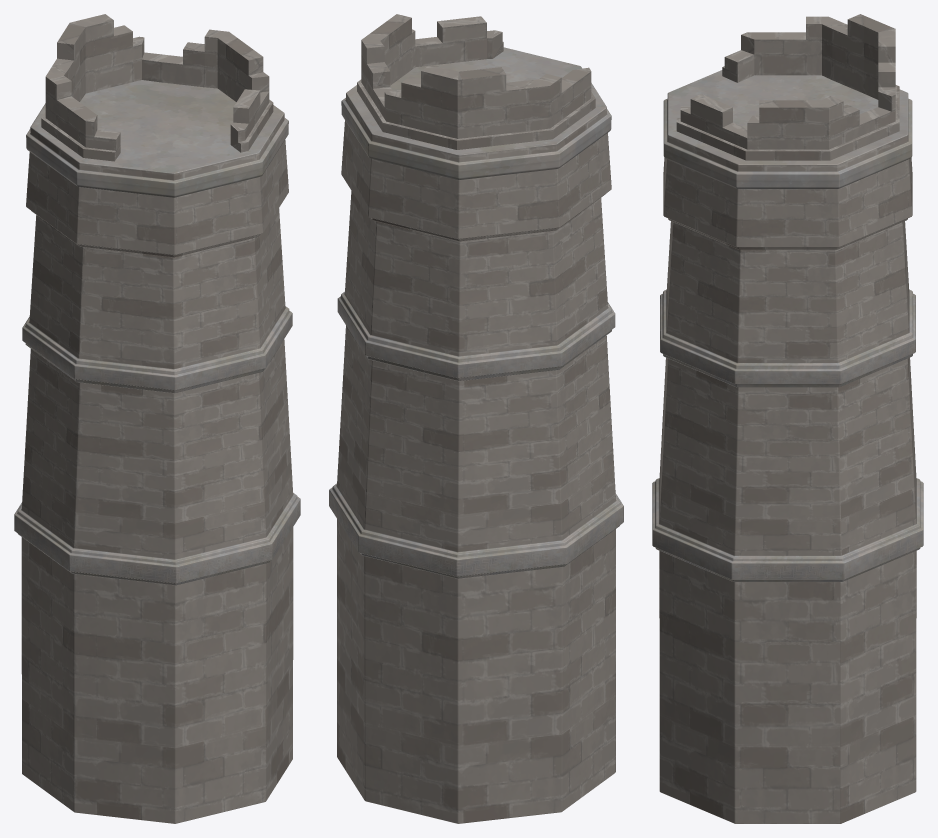
The model's file is SM_Tower_Small_Ruins_02.fbx.
3 renders of one model, left to right at view 1: azimuth 30°, elevation 25°; view 2: azimuth 150°, elevation 25°; view 3: azimuth 270°, elevation 25°, orthographic. The views are drawn at different scales.
Parts seen in each view (by area): view 1: SM_Tower_Small_Ruins_02_LOD0; view 2: SM_Tower_Small_Ruins_02_LOD0; view 3: SM_Tower_Small_Ruins_02_LOD0.
Boxes of the visible parts, <box> form: SM_Tower_Small_Ruins_02_LOD0: <box>14,14,300,823</box>; SM_Tower_Small_Ruins_02_LOD0: <box>329,14,623,823</box>; SM_Tower_Small_Ruins_02_LOD0: <box>652,14,923,823</box>.
Bounding box in the file's own units: 805 × 805 × 2370.
Materials: 2 (2 with a texture image).
